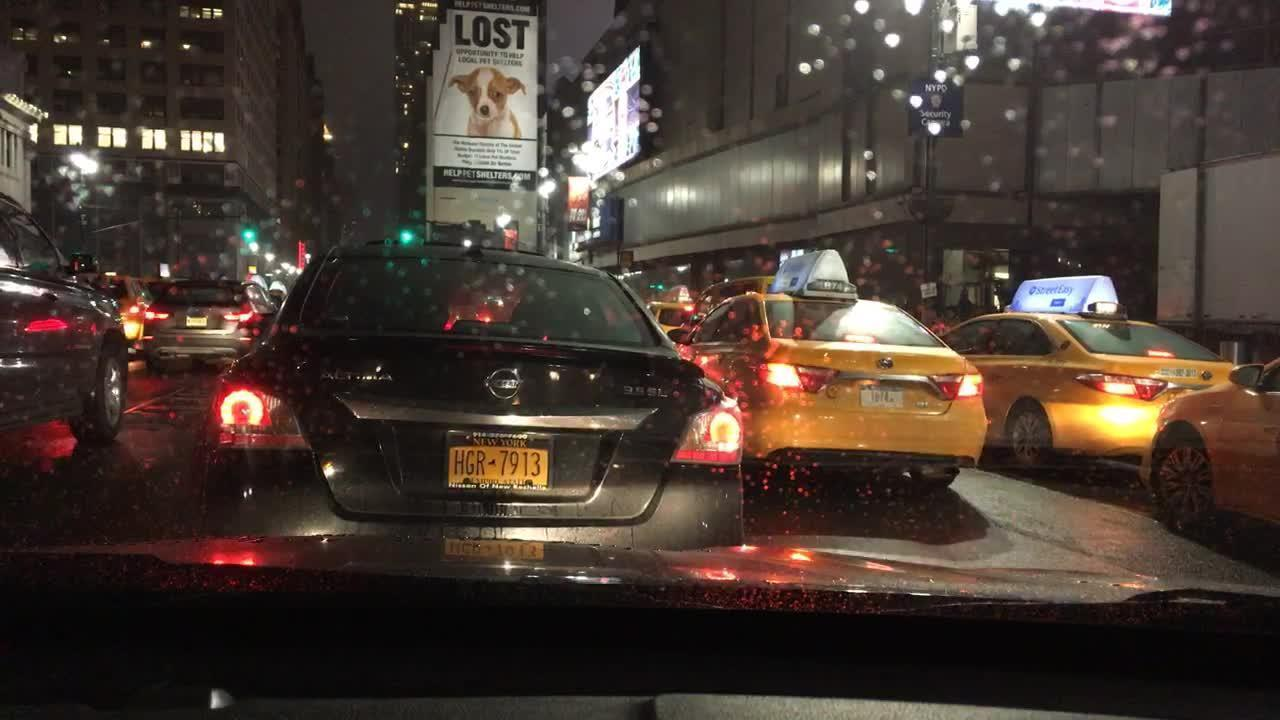Nissan: (477, 357, 531, 410)
